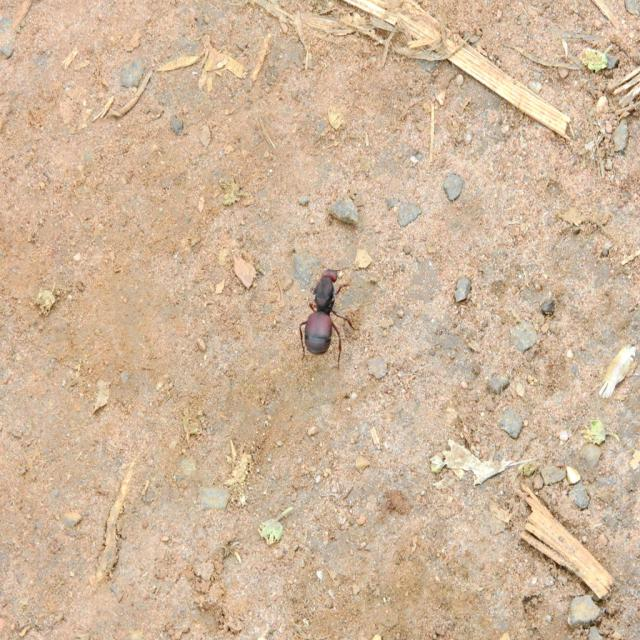Alive-Female-Dealate: (299, 266, 359, 372)
